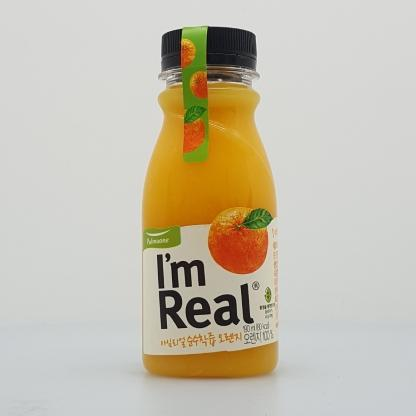-----------------190ML: (142, 25, 279, 377)
